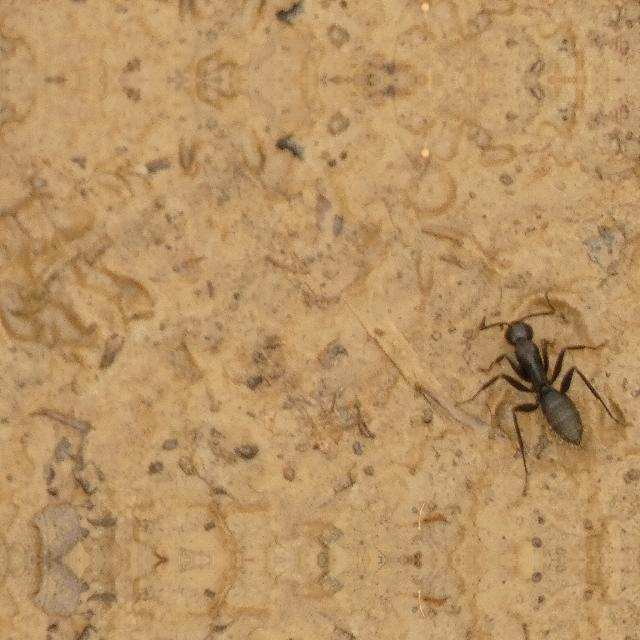Camponotus: (464, 292, 610, 460)
